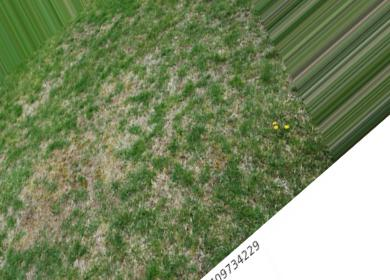patch: (36, 104, 133, 230), (87, 57, 184, 132), (11, 205, 77, 249)
